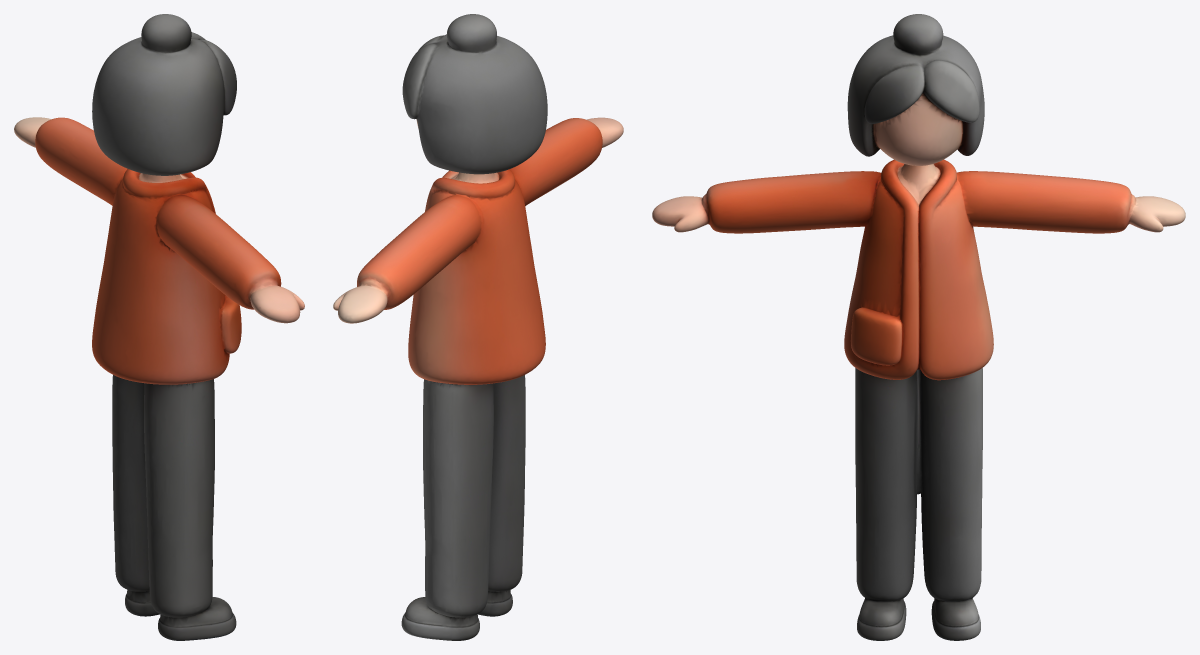
The model's file is character_male.glb.
The picture shows the model from 3 angles, left to right: view 1: azimuth 30°, elevation 25°; view 2: azimuth 150°, elevation 25°; view 3: azimuth 270°, elevation 25°; orthographic projection.
Visible parts, largest first — view 1: tripo_node_b61405dc-0116-40e5-9879-024512d2b6d2; view 2: tripo_node_b61405dc-0116-40e5-9879-024512d2b6d2; view 3: tripo_node_b61405dc-0116-40e5-9879-024512d2b6d2.
Part boxes in pixels (box(x1,y1,x2,y2)): tripo_node_b61405dc-0116-40e5-9879-024512d2b6d2: box(14, 14, 304, 640); tripo_node_b61405dc-0116-40e5-9879-024512d2b6d2: box(333, 14, 623, 640); tripo_node_b61405dc-0116-40e5-9879-024512d2b6d2: box(652, 14, 1185, 640).
Size of the model in its own units: 0.2134 by 1 by 0.8035.
1 material, 1 textured.
